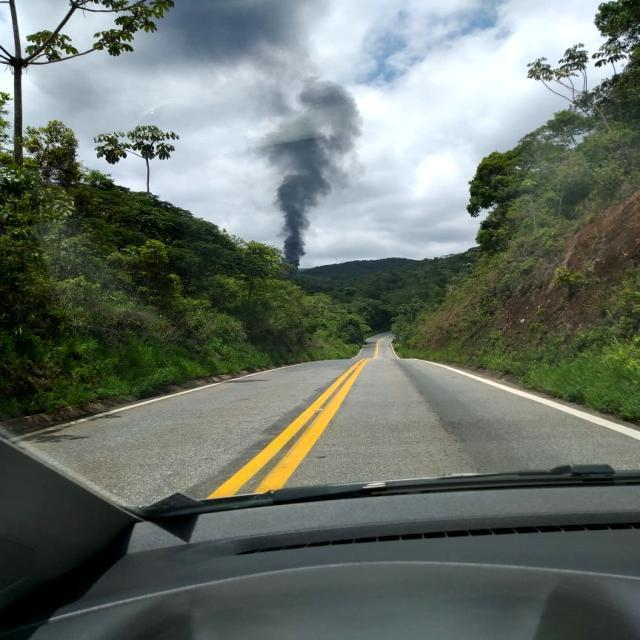Smoke: (266, 70, 376, 272)
